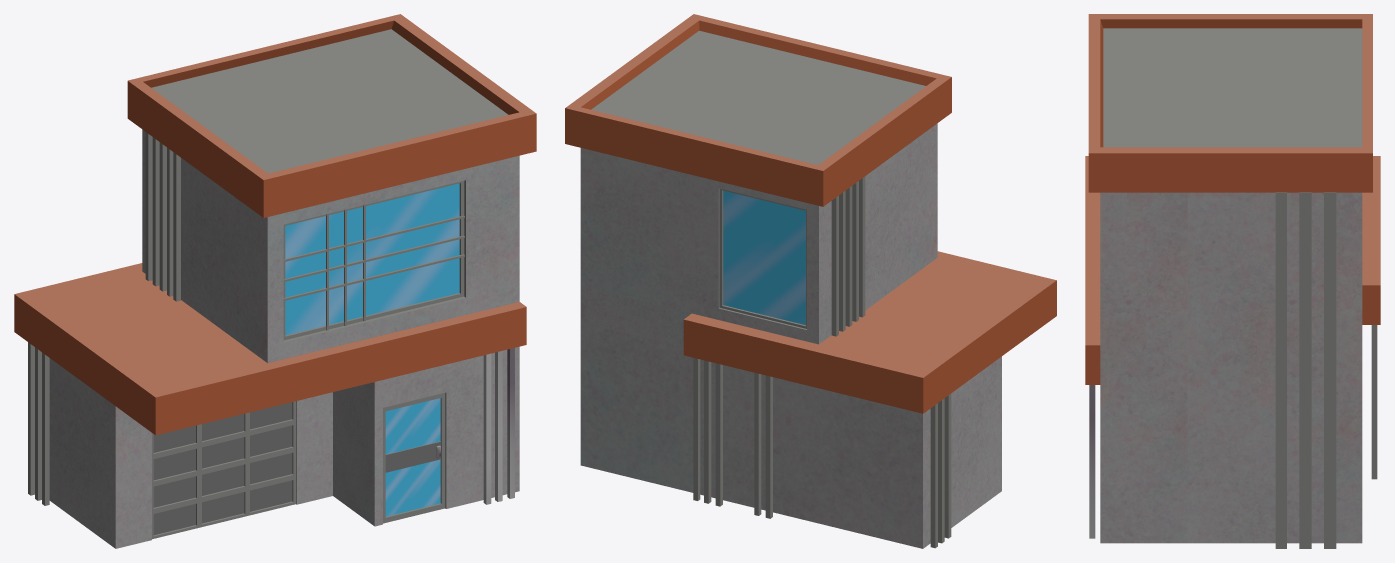
The model's file is ConcreteHouse_orange.fbx.
3 renders of one model, left to right at view 1: azimuth 30°, elevation 25°; view 2: azimuth 150°, elevation 25°; view 3: azimuth 270°, elevation 25°, orthographic. The views are drawn at different scales.
Parts seen in each view (by area): view 1: ConcretHouse_orangeRoof; view 2: ConcretHouse_orangeRoof; view 3: ConcretHouse_orangeRoof.
Boxes of the visible parts, left/top/right/bottom form: ConcretHouse_orangeRoof: left=14, top=14, right=536, bottom=548; ConcretHouse_orangeRoof: left=565, top=14, right=1056, bottom=548; ConcretHouse_orangeRoof: left=1085, top=14, right=1380, bottom=548.
Size of the model in its own units: 32.58 by 48.27 by 51.02.
